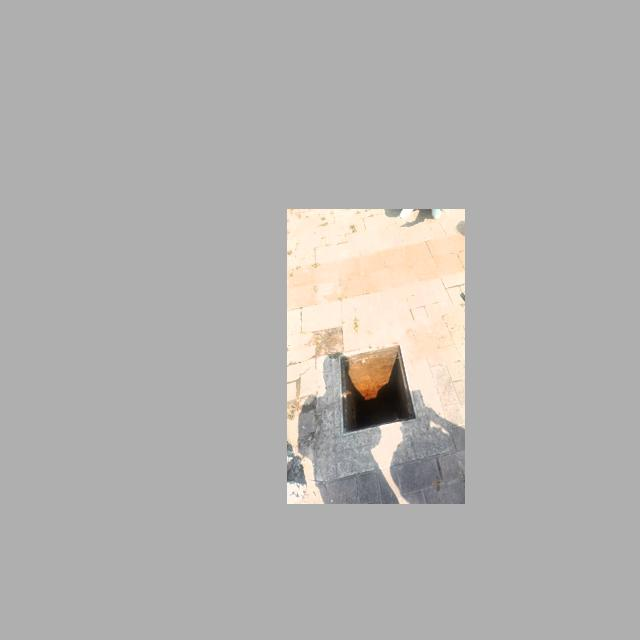lose: (338, 343, 418, 436)
